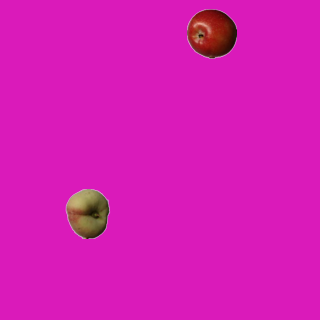Apple Braeburn: (186, 8, 236, 58)
Peach Flat: (62, 188, 112, 238)
